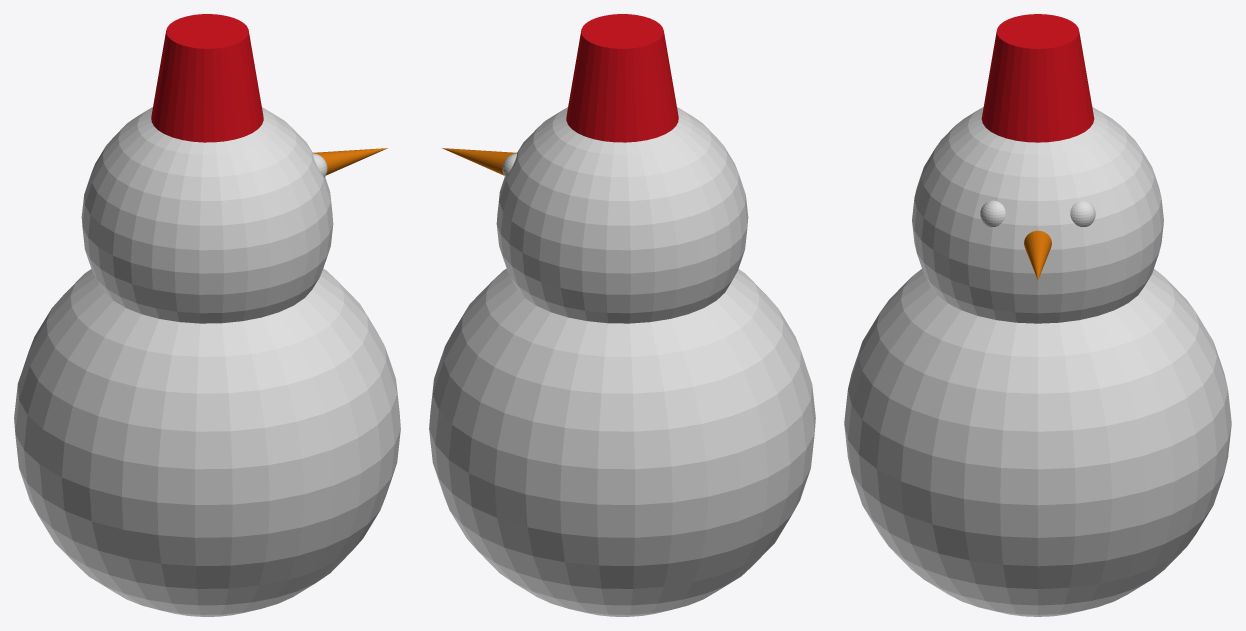
File: Snowman.fbx
The picture shows the model from 3 angles, left to right: view 1: azimuth 30°, elevation 25°; view 2: azimuth 150°, elevation 25°; view 3: azimuth 270°, elevation 25°; orthographic projection.
Visible parts, largest first — view 1: Cube; view 2: Cube; view 3: Cube.
Part boxes in pixels (x1,y1,x2,y2): Cube: (14, 14, 400, 616); Cube: (429, 14, 815, 616); Cube: (844, 14, 1231, 616).
Size of the model in its own units: 320 by 497 by 307.
